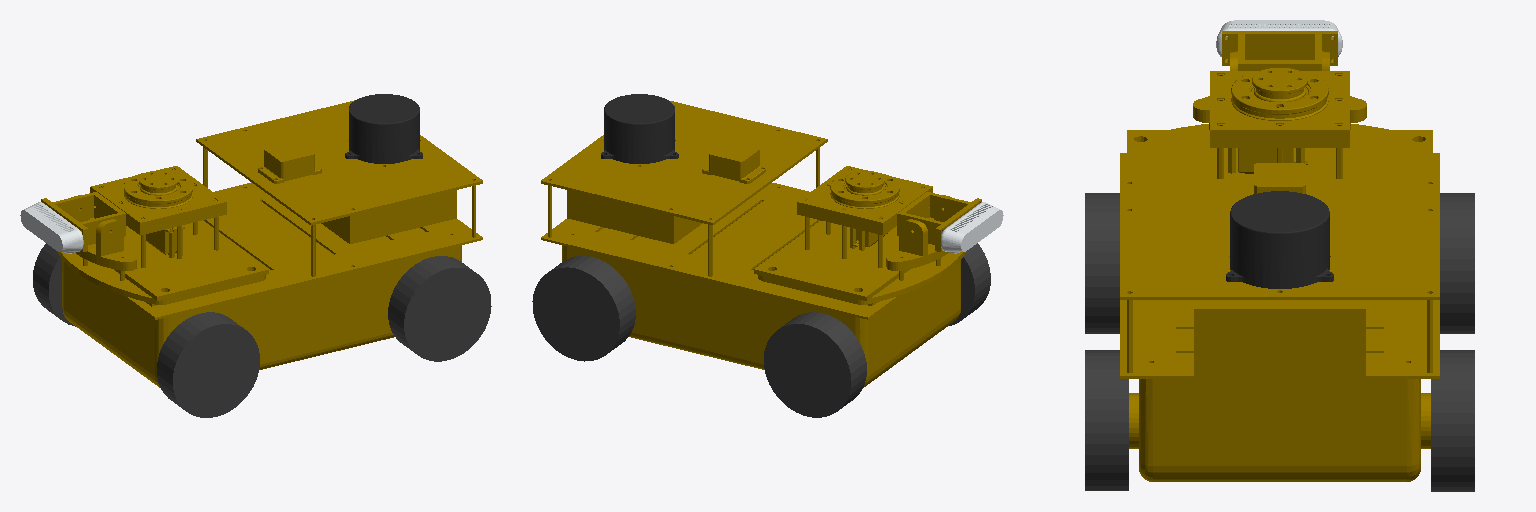
The robot description file, URDF, robot "agvcar":
<?xml version="1.0" encoding="utf-8"?>
<!-- This URDF was automatically created by SolidWorks to URDF Exporter! Originally created by [author] ([email redacted]) 
     Commit Version: 1.6.0-4-g7f85cfe  Build Version: 1.6.7995.38578
     For more information, please see http://wiki.ros.org/sw_urdf_exporter -->
<robot
  name="agvcar">
  <link
    name="front_base">
    <visual>
      <origin
        xyz="0 0 0"
        rpy="0 0 0" />
      <geometry>
        <box size="0.01 0.01 0.01"/>
      </geometry>
    </visual>
  </link>
  <link
    name="base_link">
    <inertial>
      <origin
        xyz="0.0535596635670063 -7.75930973195837E-06 0.0864450067600846"
        rpy="0 0 0" />
      <mass
        value="13.4285294805367" />
      <inertia
        ixx="0.0493474568714098"
        ixy="-6.5377130573348E-11"
        ixz="1.55124810899379E-06"
        iyy="0.0974844673307596"
        iyz="-1.85077943424468E-09"
        izz="0.133169285413625" />
    </inertial>
    <visual>
      <origin
        xyz="0 0 0"
        rpy="0 0 0" />
      <geometry>
        <mesh
          filename="package://agvcar/meshes/base_link.STL" />
      </geometry>
      <material
        name="">
        <color
          rgba="0.647058823529412 0.517647058823529 0 1" />
      </material>
    </visual>
    <collision>
      <origin
        xyz="0 0 0"
        rpy="0 0 0" />
      <geometry>
        <mesh
          filename="package://agvcar/meshes/base_link.STL" />
      </geometry>
    </collision>
  </link>
  <joint
    name="frontbase"
    type="fixed">
    <origin
      xyz="0 0 0.02"
      rpy="0 0 0" />
    <parent
      link="front_base" />
    <child
      link="base_link" />
  </joint>
  <link
    name="zql">
    <inertial>
      <origin
        xyz="0 0.00655993549543088 -2.08166817117217E-17"
        rpy="0 0 0" />
      <mass
        value="0.24686785868356" />
      <inertia
        ixx="0.000186555687353195"
        ixy="5.54971750626698E-19"
        ixz="1.1336124277419E-20"
        iyy="0.000332239900624819"
        iyz="-2.1205858328098E-19"
        izz="0.000186555687353195" />
    </inertial>
    <visual>
      <origin
        xyz="0 0 0"
        rpy="0 0 0" />
      <geometry>
        <mesh
          filename="package://agvcar/meshes/zql.STL" />
      </geometry>
      <material
        name="">
        <color
          rgba="0.298039215686275 0.298039215686275 0.298039215686275 1" />
      </material>
    </visual>
    <collision>
      <origin
        xyz="0 0 0"
        rpy="0 0 0" />
      <geometry>
        <mesh
          filename="package://agvcar/meshes/zql.STL" />
      </geometry>
    </collision>
  </link>
  <joint
    name="zq"
    type="continuous">
    <origin
      xyz="0.134 0.11846 0.0358000000000002"
      rpy="0 0 0" />
    <parent
      link="base_link" />
    <child
      link="zql" />
    <axis
      xyz="0 1 0" />
  </joint>
  <link
    name="yql">
    <inertial>
      <origin
        xyz="1.11022302462516E-16 -0.00655993549543132 0"
        rpy="0 0 0" />
      <mass
        value="0.24686785868356" />
      <inertia
        ixx="0.000186555687353195"
        ixy="5.21507883374648E-19"
        ixz="6.6845016754145E-21"
        iyy="0.000332239900624819"
        iyz="-2.06921789956204E-19"
        izz="0.000186555687353195" />
    </inertial>
    <visual>
      <origin
        xyz="0 0 0"
        rpy="0 0 0" />
      <geometry>
        <mesh
          filename="package://agvcar/meshes/yql.STL" />
      </geometry>
      <material
        name="">
        <color
          rgba="0.298039215686275 0.298039215686275 0.298039215686275 1" />
      </material>
    </visual>
    <collision>
      <origin
        xyz="0 0 0"
        rpy="0 0 0" />
      <geometry>
        <mesh
          filename="package://agvcar/meshes/yql.STL" />
      </geometry>
    </collision>
  </link>
  <joint
    name="yq"
    type="continuous">
    <origin
      xyz="0.133999999999999 -0.11846 0.0358000000000006"
      rpy="0 0 0" />
    <parent
      link="base_link" />
    <child
      link="yql" />
    <axis
      xyz="0 -1 0" />
  </joint>
  <link
    name="zhl">
    <inertial>
      <origin
        xyz="-6.93889390390723E-17 0.00655993549543088 -6.93889390390723E-18"
        rpy="0 0 0" />
      <mass
        value="0.24686785868356" />
      <inertia
        ixx="0.000186555687353195"
        ixy="5.09181411447997E-19"
        ixz="-1.25607927469927E-20"
        iyy="0.000332239900624819"
        iyz="-2.08843859917431E-19"
        izz="0.000186555687353195" />
    </inertial>
    <visual>
      <origin
        xyz="0 0 0"
        rpy="0 0 0" />
      <geometry>
        <mesh
          filename="package://agvcar/meshes/zhl.STL" />
      </geometry>
      <material
        name="">
        <color
          rgba="0.298039215686275 0.298039215686275 0.298039215686275 1" />
      </material>
    </visual>
    <collision>
      <origin
        xyz="0 0 0"
        rpy="0 0 0" />
      <geometry>
        <mesh
          filename="package://agvcar/meshes/zhl.STL" />
      </geometry>
    </collision>
  </link>
  <joint
    name="zh"
    type="continuous">
    <origin
      xyz="-0.134 0.118460000000001 0.0357999999999995"
      rpy="0 0 0" />
    <parent
      link="base_link" />
    <child
      link="zhl" />
    <axis
      xyz="0 1 0" />
  </joint>
  <link
    name="yhl">
    <inertial>
      <origin
        xyz="6.93889390390723E-17 -0.00655993549543088 1.38777878078145E-17"
        rpy="0 0 0" />
      <mass
        value="0.24686785868356" />
      <inertia
        ixx="0.000186555687353195"
        ixy="5.22839018577619E-19"
        ixz="2.81461989764704E-20"
        iyy="0.000332239900624819"
        iyz="-2.0295506492961E-19"
        izz="0.000186555687353195" />
    </inertial>
    <visual>
      <origin
        xyz="0 0 0"
        rpy="0 0 0" />
      <geometry>
        <mesh
          filename="package://agvcar/meshes/yhl.STL" />
      </geometry>
      <material
        name="">
        <color
          rgba="0.298039215686275 0.298039215686275 0.298039215686275 1" />
      </material>
    </visual>
    <collision>
      <origin
        xyz="0 0 0"
        rpy="0 0 0" />
      <geometry>
        <mesh
          filename="package://agvcar/meshes/yhl.STL" />
      </geometry>
    </collision>
  </link>
  <joint
    name="yh"
    type="continuous">
    <origin
      xyz="-0.134000000000001 -0.118459999999999 0.0357999999999998"
      rpy="0 0 0" />
    <parent
      link="base_link" />
    <child
      link="yhl" />
    <axis
      xyz="0 -1 0" />
  </joint>
  <link
    name="ladar">
    <inertial>
      <origin
        xyz="1.00438546368764E-11 -5.09414732619007E-12 0.0222462705397482"
        rpy="0 0 0" />
      <mass
        value="0.180802376452422" />
      <inertia
        ixx="8.86105371612917E-05"
        ixy="1.49899275371219E-14"
        ixz="3.75499657275673E-14"
        iyy="8.86105368846044E-05"
        iyz="-1.35257771200435E-14"
        izz="0.000116614517328158" />
    </inertial>
    <visual>
      <origin
        xyz="0 0 0"
        rpy="0 0 0" />
      <geometry>
        <mesh
          filename="package://agvcar/meshes/ladar.STL" />
      </geometry>
      <material
        name="">
        <color
          rgba="0.223529411764706 0.223529411764706 0.223529411764706 1" />
      </material>
    </visual>
    <collision>
      <origin
        xyz="0 0 0"
        rpy="0 0 0" />
      <geometry>
        <mesh
          filename="package://agvcar/meshes/ladar.STL" />
      </geometry>
    </collision>
  </link>
  <joint
    name="ladar_body"
    type="fixed">
    <origin
      xyz="0.141469568517405 0 0.160500000000001"
      rpy="0 0 0" />
    <parent
      link="base_link" />
    <child
      link="ladar" />
    <axis
      xyz="0 0 0" />
  </joint>
  <link
    name="camera">
    <inertial>
      <origin
        xyz="0.0114440208259819 0.0017049811987826 -0.000136108231652915"
        rpy="0 0 0" />
      <mass
        value="0.107910427285576" />
      <inertia
        ixx="7.12550269124956E-05"
        ixy="-1.78474723509806E-08"
        ixz="-4.9297800794627E-08"
        iyy="7.71002128129154E-06"
        iyz="-2.48245266673343E-10"
        izz="7.02567377723332E-05" />
    </inertial>
    <visual>
      <origin
        xyz="0 0 0"
        rpy="0 0 0" />
      <geometry>
        <mesh
          filename="package://agvcar/meshes/camera.STL" />
      </geometry>
      <material
        name="">
        <color
          rgba="0.898039215686275 0.917647058823529 0.929411764705882 1" />
      </material>
    </visual>
    <collision>
      <origin
        xyz="0 0 0"
        rpy="0 0 0" />
      <geometry>
        <mesh
          filename="package://agvcar/meshes/camera.STL" />
      </geometry>
    </collision>
  </link>
  <joint
    name="camera_body"
    type="fixed">
    <origin
      xyz="-0.25461593319414 -0.00206095974626663 0.162274122782275"
      rpy="0 0 0" />
    <parent
      link="base_link" />
    <child
      link="camera" />
    <axis
      xyz="0 0 0" />
  </joint>
</robot>

--- Render facts (derived) ---
Views: 3 orthographic renders of the robot side by side, from view 1: azimuth 30°, elevation 25°; view 2: azimuth 150°, elevation 25°; view 3: azimuth 270°, elevation 25°.
Model agvcar with 8 links and 7 joints (4 continuous, 3 fixed), rooted at front_base, posed every joint at zero.
Links seen in each view (by area): view 1: base_link, yql, yhl, ladar, camera, zhl; view 2: base_link, zhl, zql, ladar, camera, yhl; view 3: base_link, ladar, zql, yql, zhl, yhl, camera.
Boxes of the visible links, box(x1,y1,x2,y2) form: base_link: box(41, 100, 482, 387); yql: box(388, 256, 491, 361); yhl: box(157, 312, 259, 417); ladar: box(345, 94, 422, 163); camera: box(20, 202, 83, 253); zhl: box(33, 243, 75, 326); base_link: box(541, 101, 981, 387); zhl: box(764, 312, 866, 417); zql: box(532, 256, 635, 361); ladar: box(601, 94, 678, 163); camera: box(941, 202, 1003, 253); yhl: box(949, 243, 990, 325); base_link: box(1120, 31, 1439, 481); ladar: box(1226, 191, 1333, 288); zql: box(1431, 350, 1474, 491); yql: box(1085, 350, 1128, 490); zhl: box(1440, 193, 1474, 333); yhl: box(1085, 193, 1119, 333); camera: box(1216, 20, 1342, 59).
Size in the robot's own frame: 0.4456 by 0.2809 by 0.2302 metres.
7 mesh visuals loaded from 7 distinct referenced files (7 binary STL).
